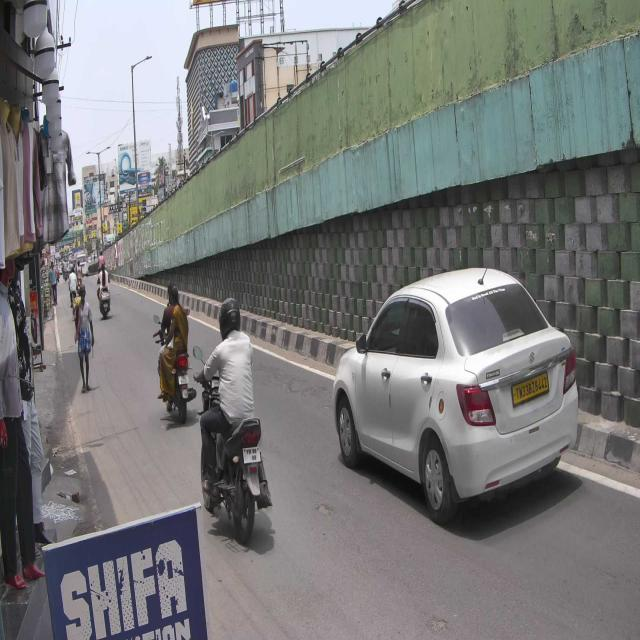single_rider: (197, 298, 271, 540)
